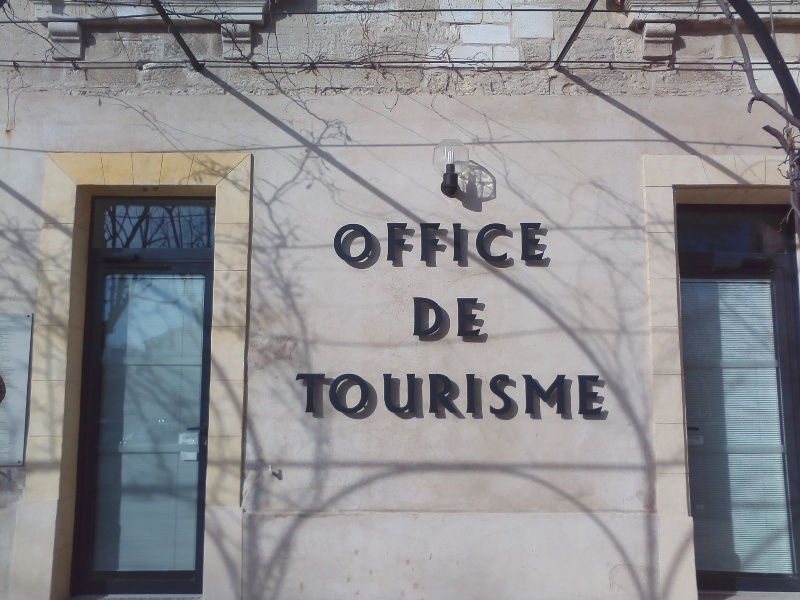text: (305, 372, 320, 418), (321, 372, 336, 418), (337, 372, 352, 418), (353, 372, 368, 418), (369, 372, 384, 418), (385, 372, 400, 418), (401, 372, 416, 418), (417, 372, 432, 418), (433, 372, 448, 418), (449, 372, 464, 418), (465, 372, 480, 418), (481, 372, 496, 418), (497, 372, 512, 418), (513, 372, 528, 418), (529, 372, 544, 418), (545, 372, 560, 418), (561, 372, 576, 418), (577, 372, 592, 418), (337, 222, 352, 265), (353, 222, 368, 265), (369, 222, 384, 265), (385, 222, 400, 265), (401, 222, 416, 265), (417, 222, 432, 265), (433, 222, 448, 265), (449, 222, 464, 265), (465, 222, 480, 265), (481, 222, 496, 265), (497, 222, 512, 265), (513, 222, 528, 265), (529, 222, 544, 265), (417, 297, 432, 338), (433, 297, 448, 338), (449, 297, 464, 338), (465, 297, 480, 338), (177, 425, 192, 465), (593, 372, 605, 418), (193, 425, 206, 465), (296, 372, 304, 418), (167, 425, 176, 465), (411, 297, 416, 338), (333, 222, 336, 265), (545, 222, 547, 265), (481, 297, 483, 338)
